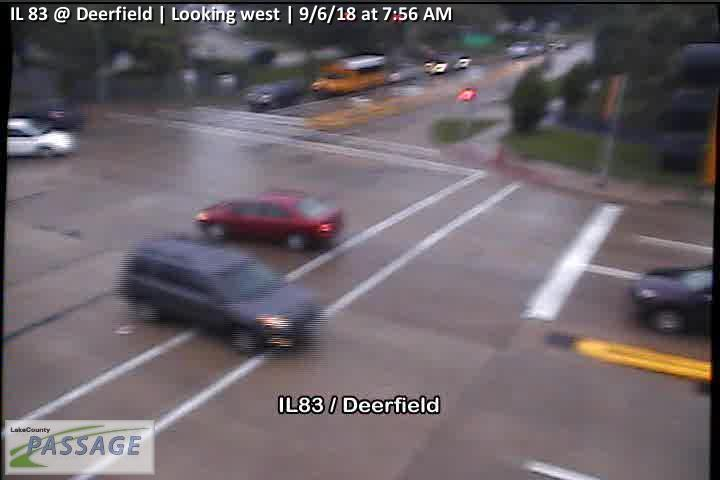Bus: (311, 54, 388, 96)
SUV: (119, 239, 322, 356), (5, 117, 76, 158)
Sedan: (193, 192, 343, 251)
